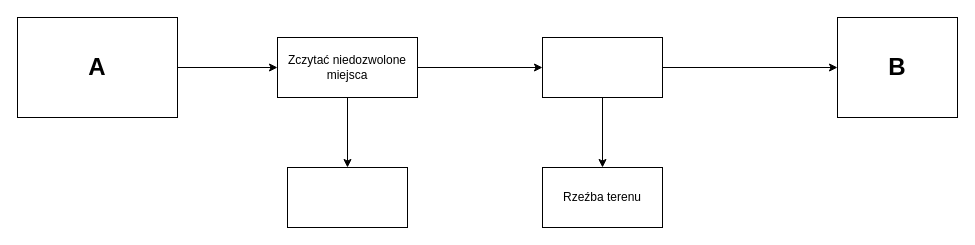
This 975x245 diagram has some shape labels left out. The box of each missing label's shape, as (x1, y1, x2, y2) in pixels:
Posesje, obiekty państwowe, obszary burzy: (286, 166, 408, 228)
Wyznaczyć optymalną trasę: (542, 36, 662, 98)
